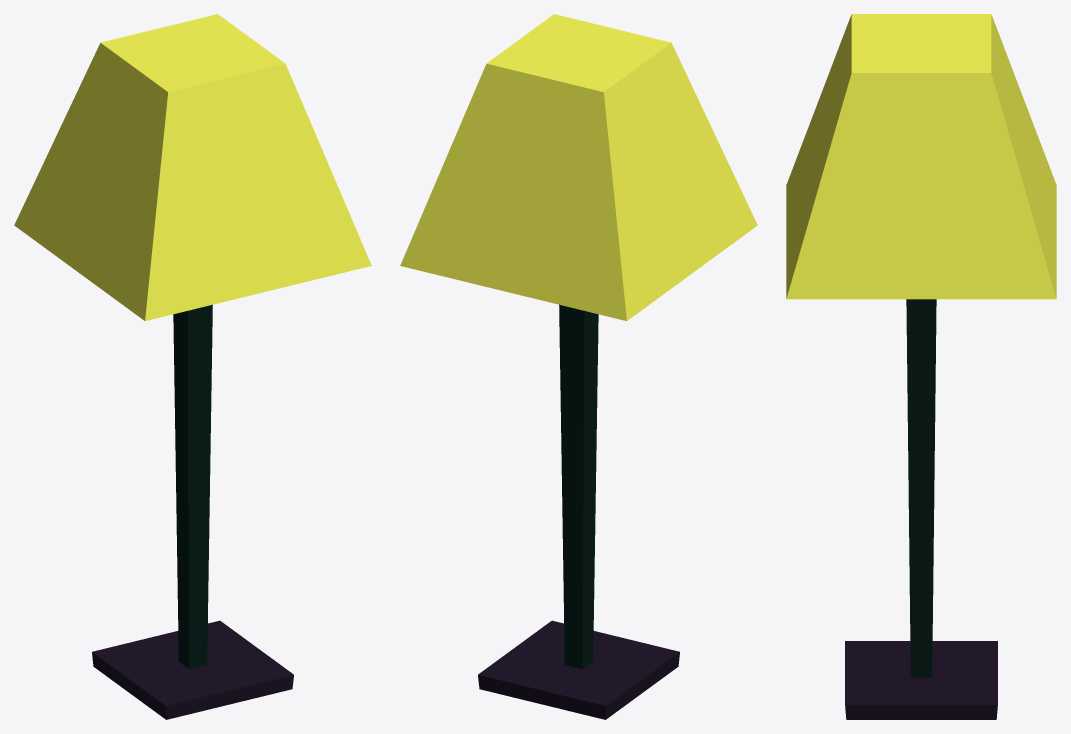
Rendered from House_Anywhere_StandingLamp.FBX.
3 views of the same model, side by side, from view 1: azimuth 30°, elevation 25°; view 2: azimuth 150°, elevation 25°; view 3: azimuth 270°, elevation 25° (orthographic). The views are drawn at different scales.
Visible parts, largest first — view 1: House_Anywhere_StandingLamp_shade, House_Anywhere_StandingLamp_post, House_Anywhere_StandingLamp_base; view 2: House_Anywhere_StandingLamp_shade, House_Anywhere_StandingLamp_post, House_Anywhere_StandingLamp_base; view 3: House_Anywhere_StandingLamp_shade, House_Anywhere_StandingLamp_base, House_Anywhere_StandingLamp_post.
Boxes of the visible parts, x1,y1,x2,y2 form: House_Anywhere_StandingLamp_shade: (14,14,371,320); House_Anywhere_StandingLamp_post: (173,304,212,669); House_Anywhere_StandingLamp_base: (92,620,293,719); House_Anywhere_StandingLamp_shade: (400,14,757,320); House_Anywhere_StandingLamp_post: (559,304,598,669); House_Anywhere_StandingLamp_base: (478,620,679,719); House_Anywhere_StandingLamp_shade: (786,14,1056,299); House_Anywhere_StandingLamp_base: (845,641,997,719); House_Anywhere_StandingLamp_post: (906,299,936,677).
Size of the model in its own units: 117 by 308 by 117.
